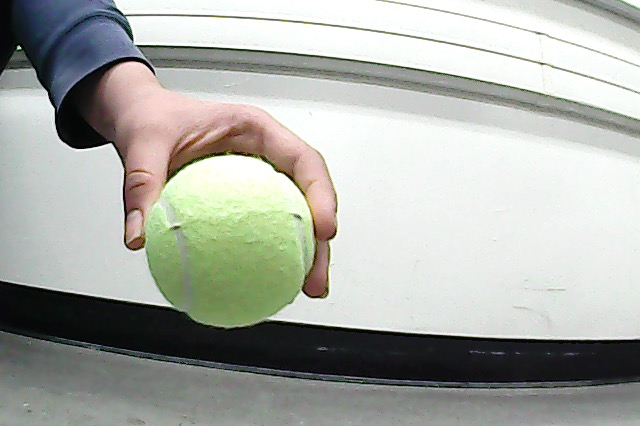ball: (140, 149, 320, 334)
